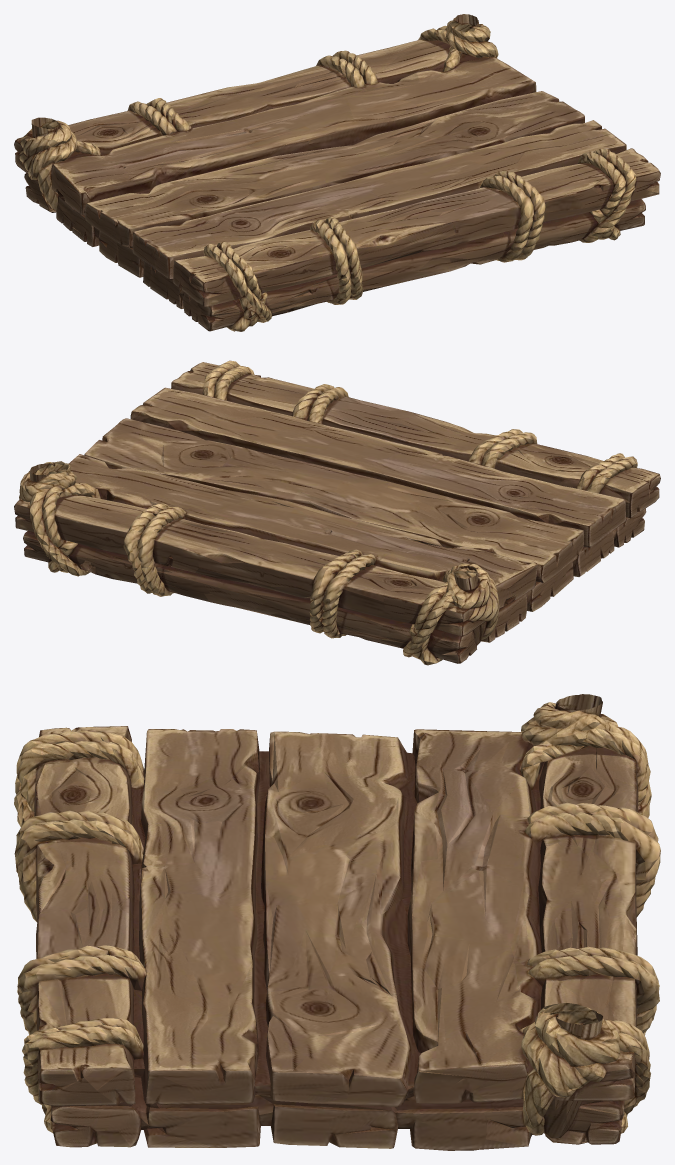
Rendered from WoodPlatform.fbx.
The picture shows the model from 3 angles, top to bottom: view 1: azimuth 30°, elevation 25°; view 2: azimuth 150°, elevation 25°; view 3: azimuth 270°, elevation 25°; orthographic projection. The views are drawn at different scales.
Parts seen in each view (by area): view 1: WoodPlatform; view 2: WoodPlatform; view 3: WoodPlatform.
Part boxes in pixels (x1=…): WoodPlatform: x1=14, y1=14, x2=660, y2=331; WoodPlatform: x1=14, y1=360, x2=660, y2=665; WoodPlatform: x1=14, y1=694, x2=660, y2=1150.
Bounding box in the file's own units: 2 × 0.3713 × 1.57.
Materials: 1 (1 with a texture image).
